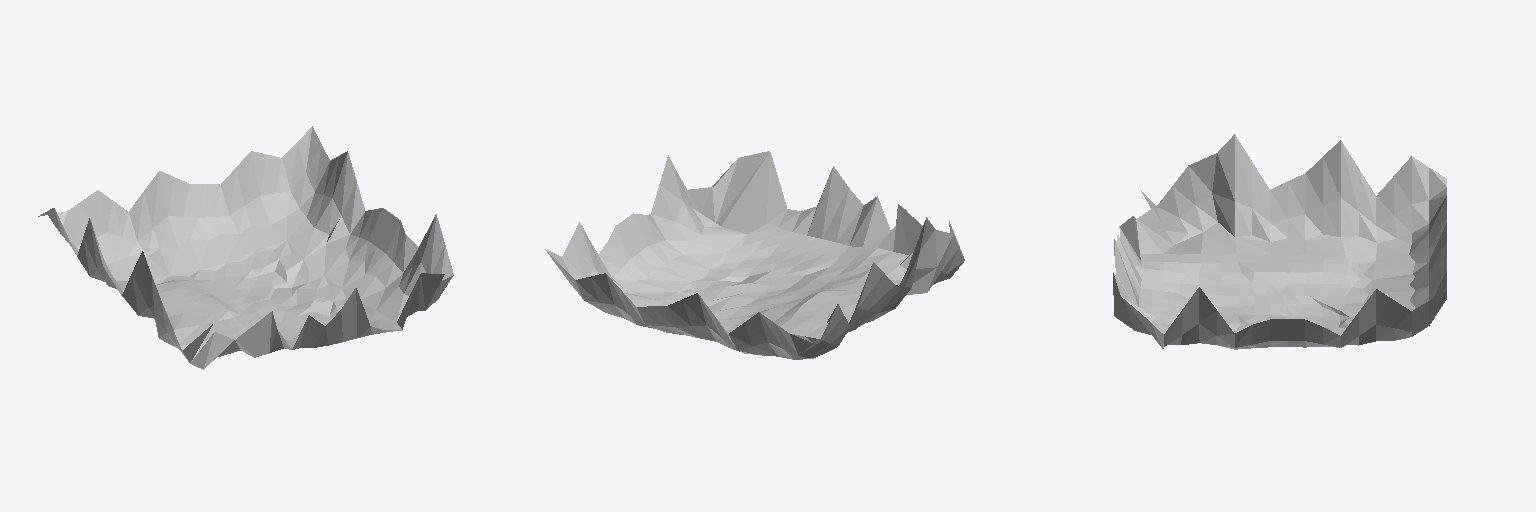
Rendered from terrain.obj.
3 renders of one model, left to right at view 1: azimuth 30°, elevation 25°; view 2: azimuth 150°, elevation 25°; view 3: azimuth 270°, elevation 25°, orthographic.
Visible parts, largest first — view 1: Grid; view 2: Grid; view 3: Grid.
Boxes of the visible parts, box(x1,y1,x2,y2) form: Grid: box(38, 126, 453, 369); Grid: box(545, 151, 964, 359); Grid: box(1113, 134, 1446, 349).
Bounding box in the file's own units: 203 × 77.03 × 210.